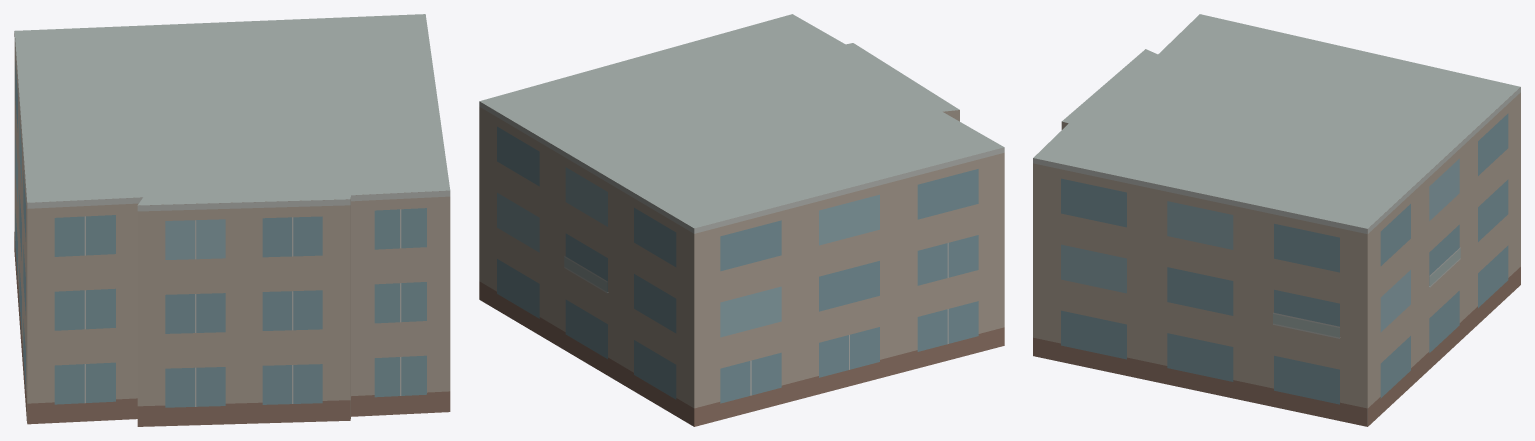
File: survey-upis-32844503.glb
3 renders of one model, left to right at view 1: azimuth 30°, elevation 25°; view 2: azimuth 150°, elevation 25°; view 3: azimuth 270°, elevation 25°, orthographic. The views are drawn at different scales.
Parts seen in each view (by area): view 1: survey-upis-32844503.tmp; view 2: survey-upis-32844503.tmp; view 3: survey-upis-32844503.tmp.
Part boxes in pixels (x1,y1,x2,y2): survey-upis-32844503.tmp: (14, 14, 450, 426); survey-upis-32844503.tmp: (479, 14, 1004, 426); survey-upis-32844503.tmp: (1033, 14, 1520, 426).
Size of the model in its own units: 20.95 by 9 by 20.1.
